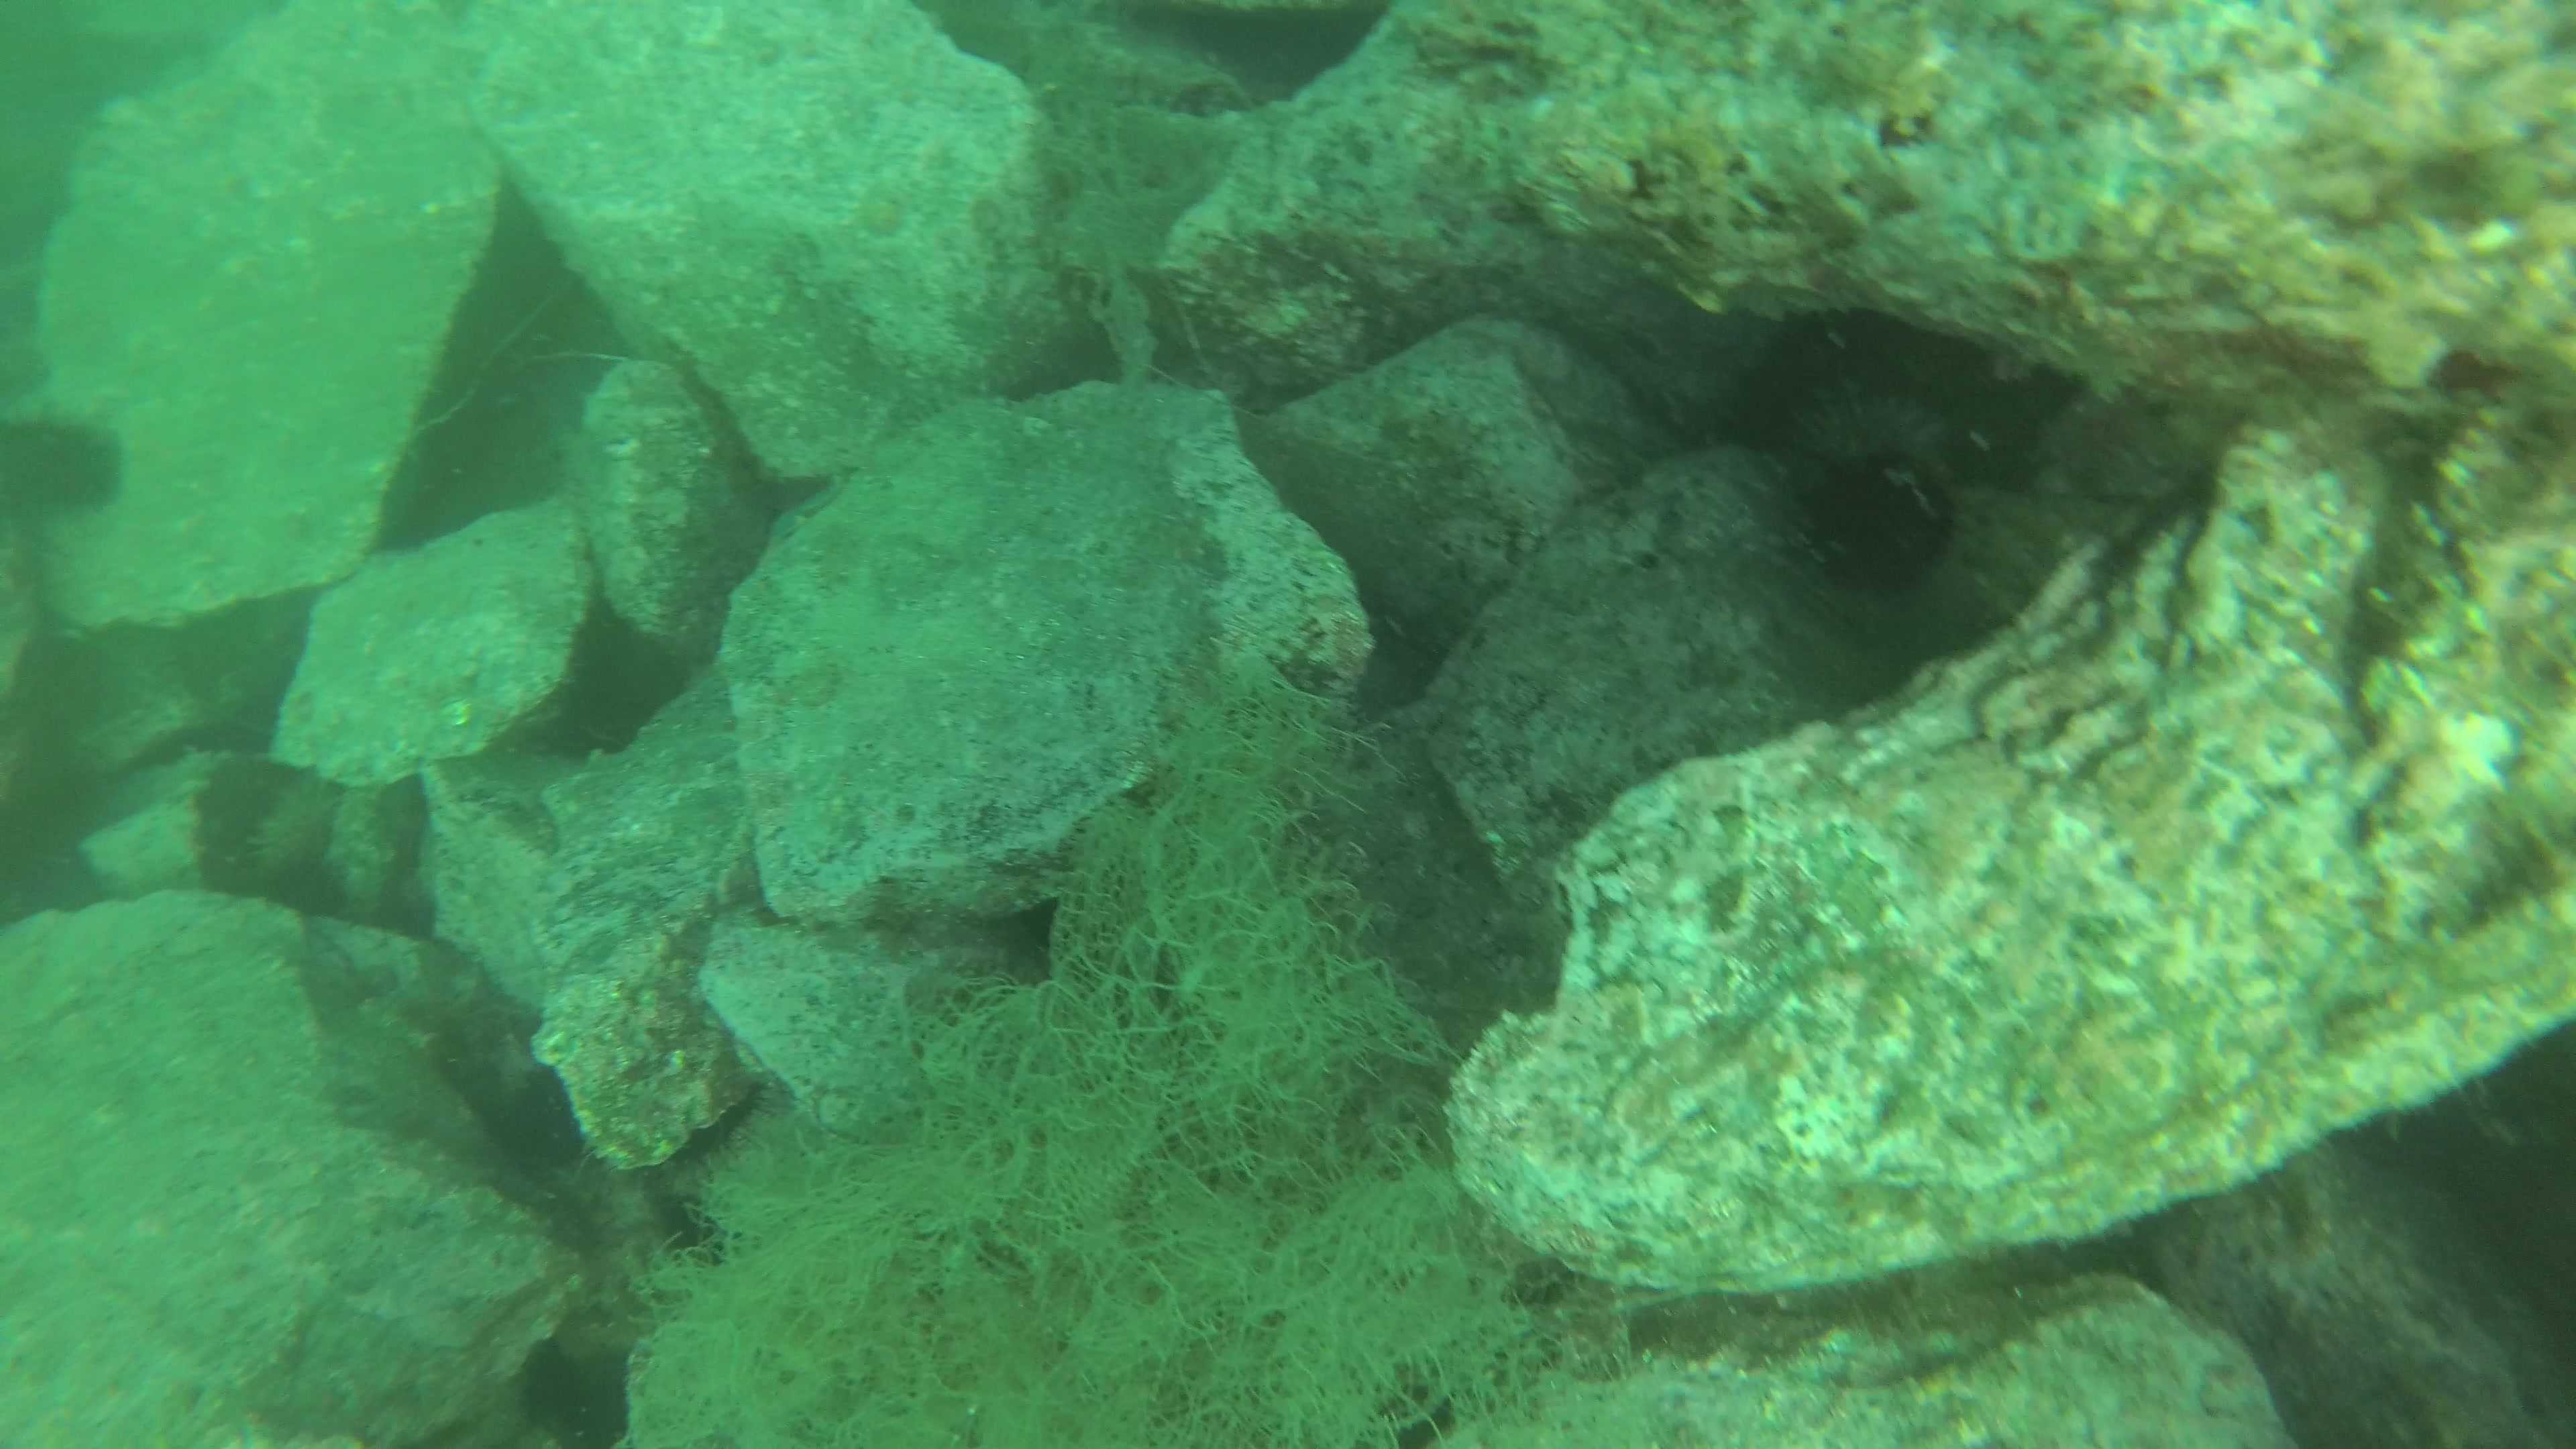echinus: (1810, 455, 1950, 591), (1792, 389, 1936, 517), (7, 412, 124, 513)
